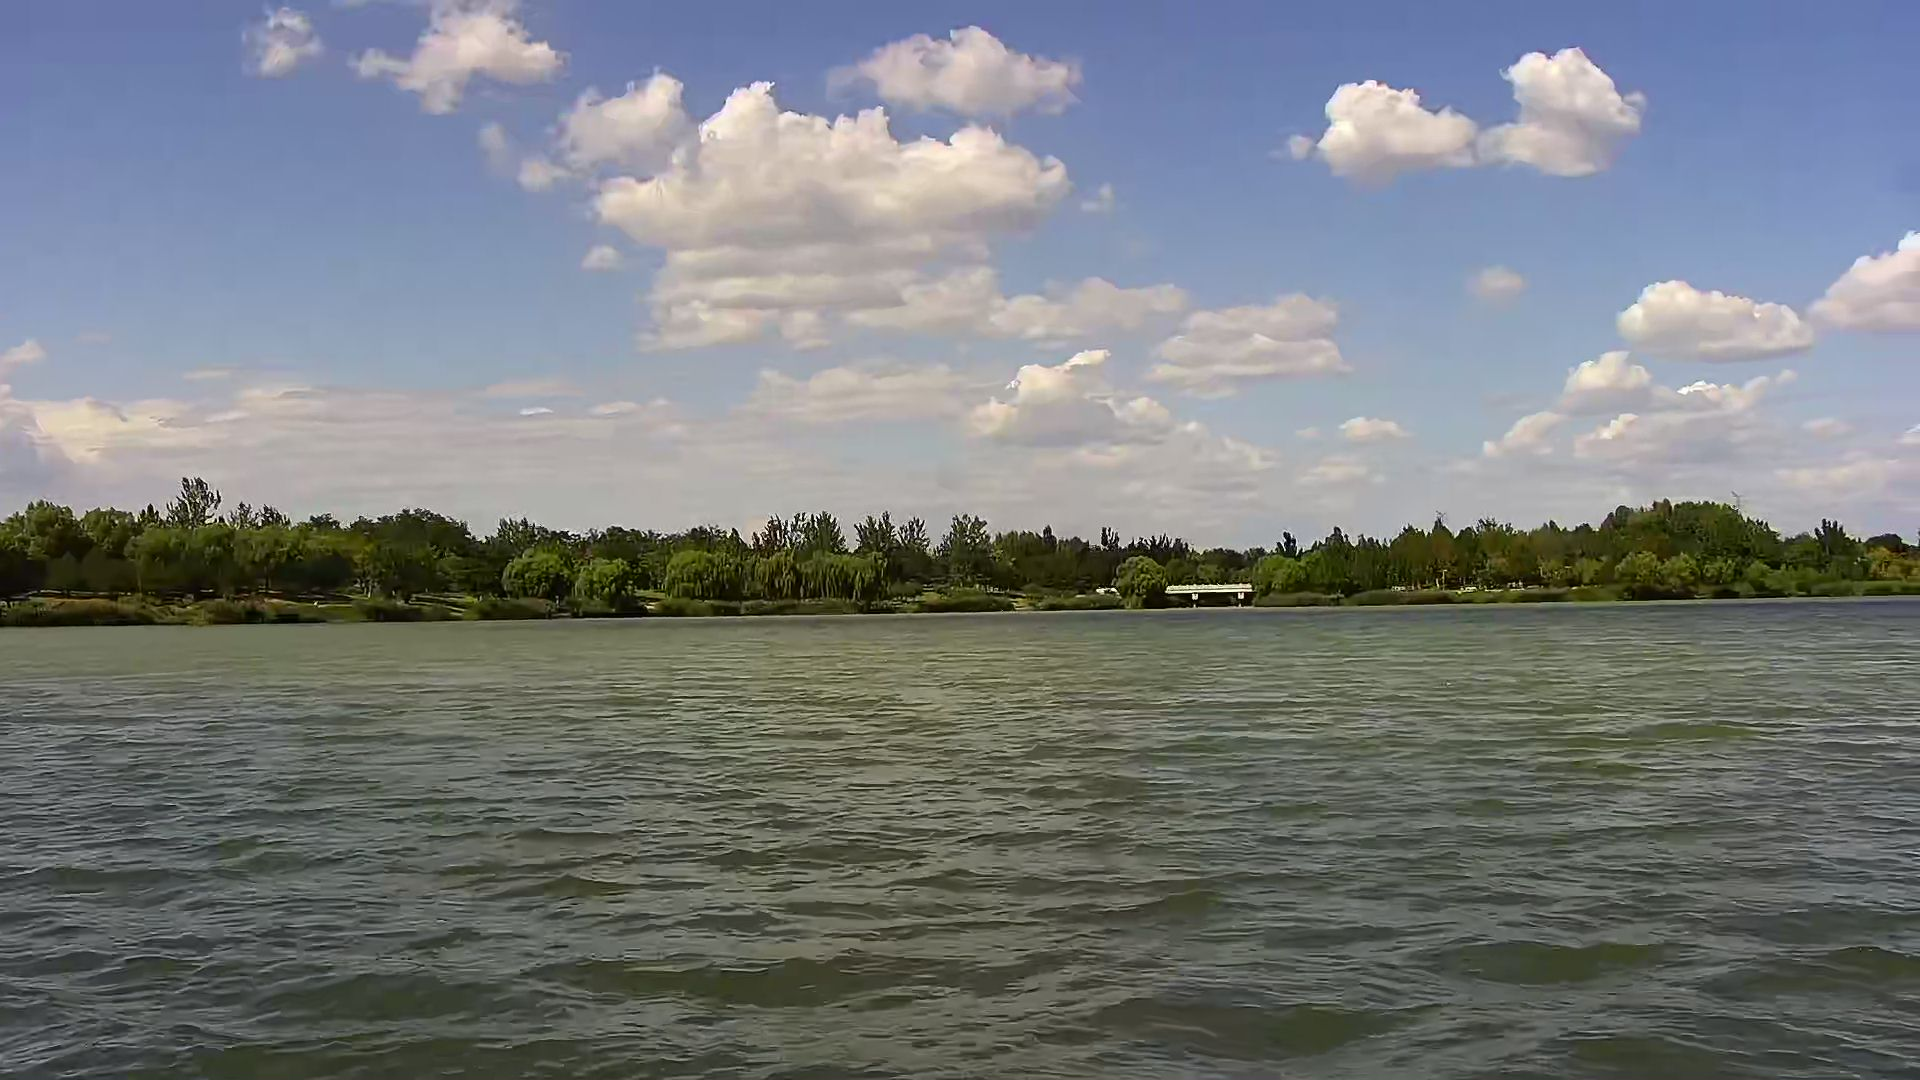bridge: (1160, 580, 1257, 613)
